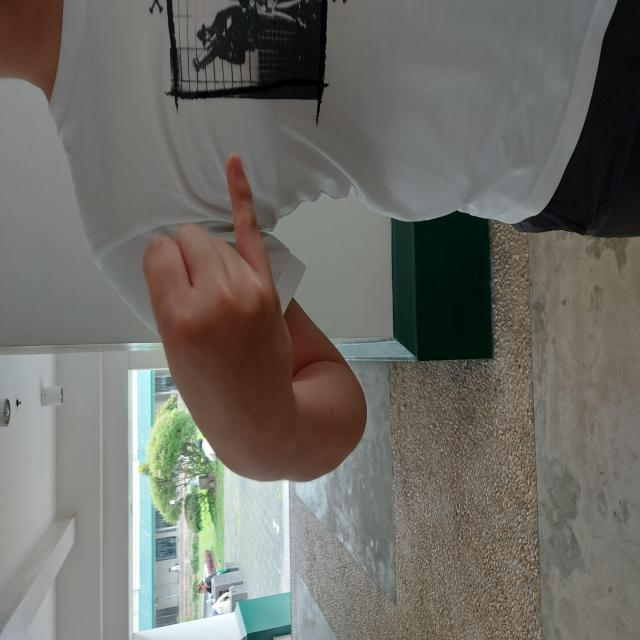J: (159, 141, 489, 296)
